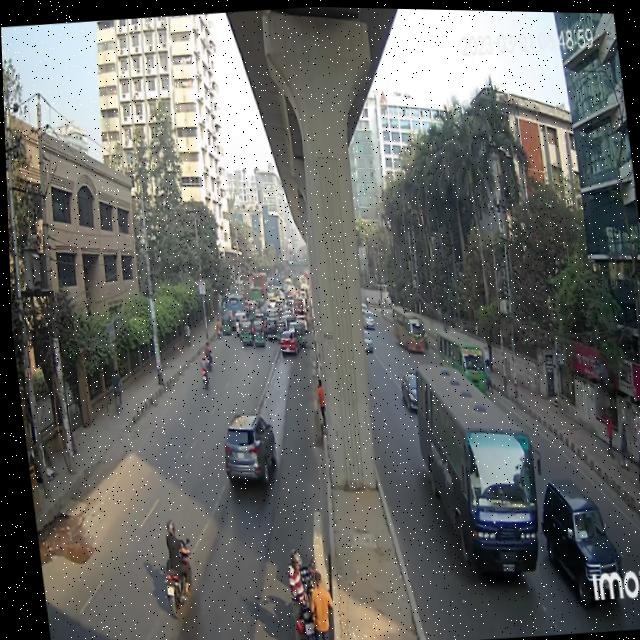cng: (272, 314, 288, 347), (215, 309, 231, 341), (289, 320, 304, 350), (249, 318, 263, 348), (238, 315, 249, 346)
